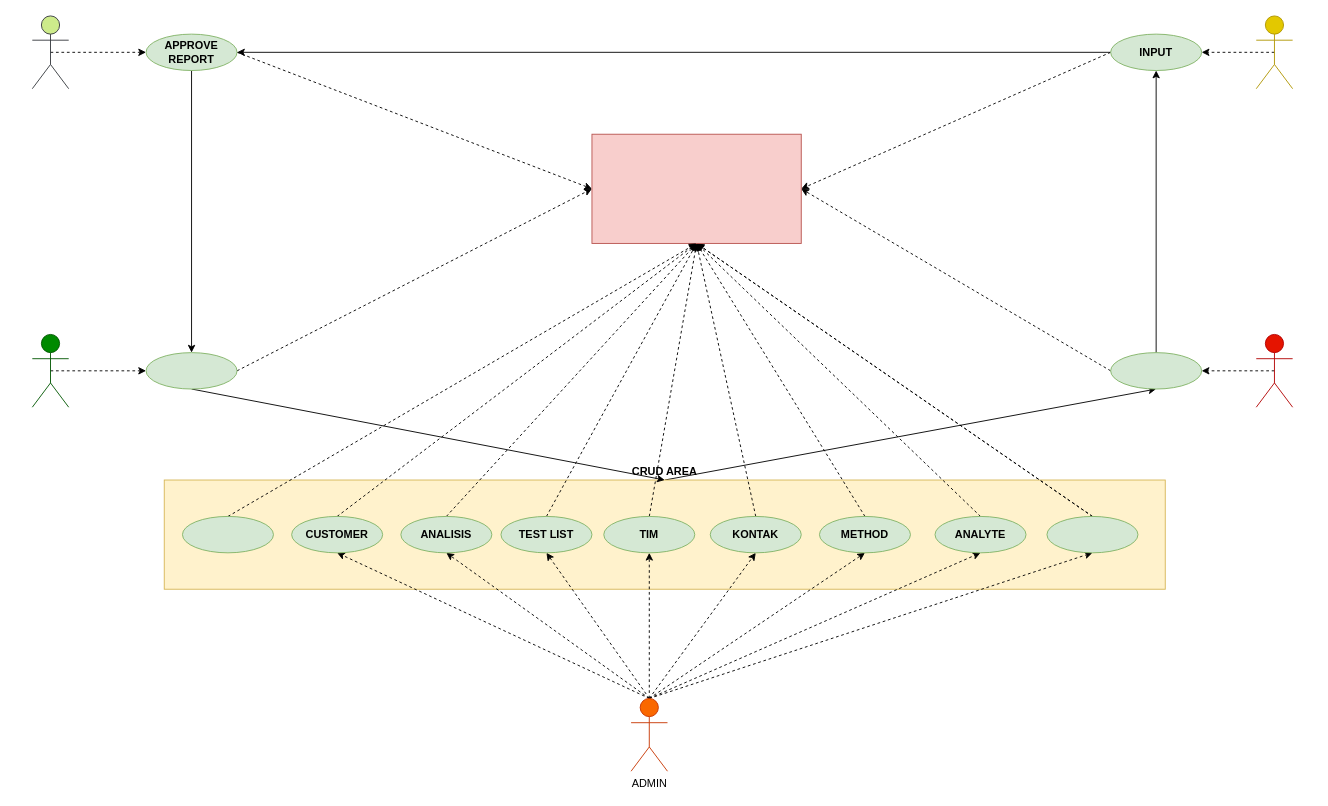
Some shapes in this 1328 by 806 pixel diagram are drawn without their labels. Each missing label, with the centre of its shape:
APPROVEP: point 50,52
DATA LOADER: point 1274,52
LIMS: point 696,188
LOGIN: point 1156,370
LOKASI: point 227,534
RELEASE REPORT: point 191,370
USER: point 1092,534
